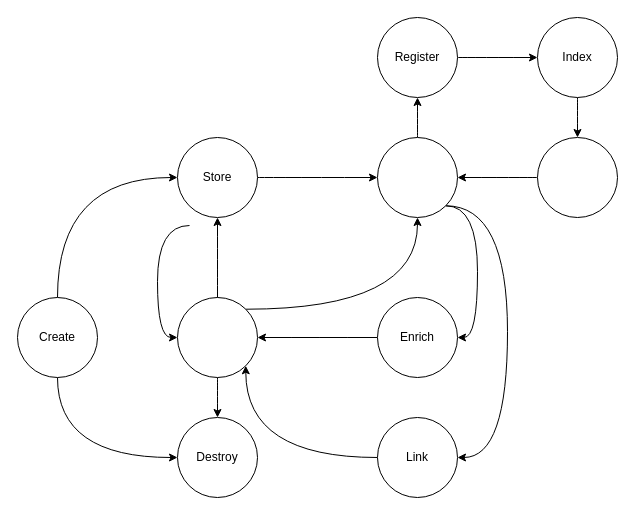
Image size: 635x515. Some labels were removed from this diagram. The centre of each missing label's shape, as x and y in pixels:
Announce: pixel 417 177
Preserve: pixel 577 177
Update: pixel 217 337
